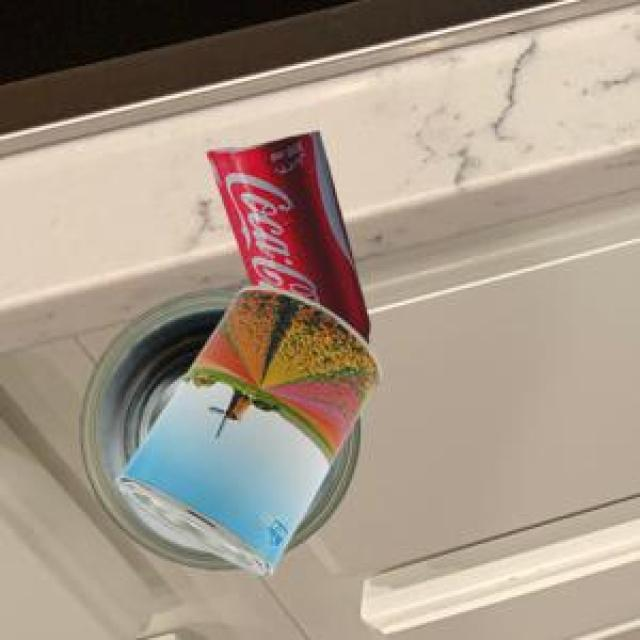Can: (78, 287, 359, 566), (112, 283, 379, 573), (204, 130, 366, 342)
